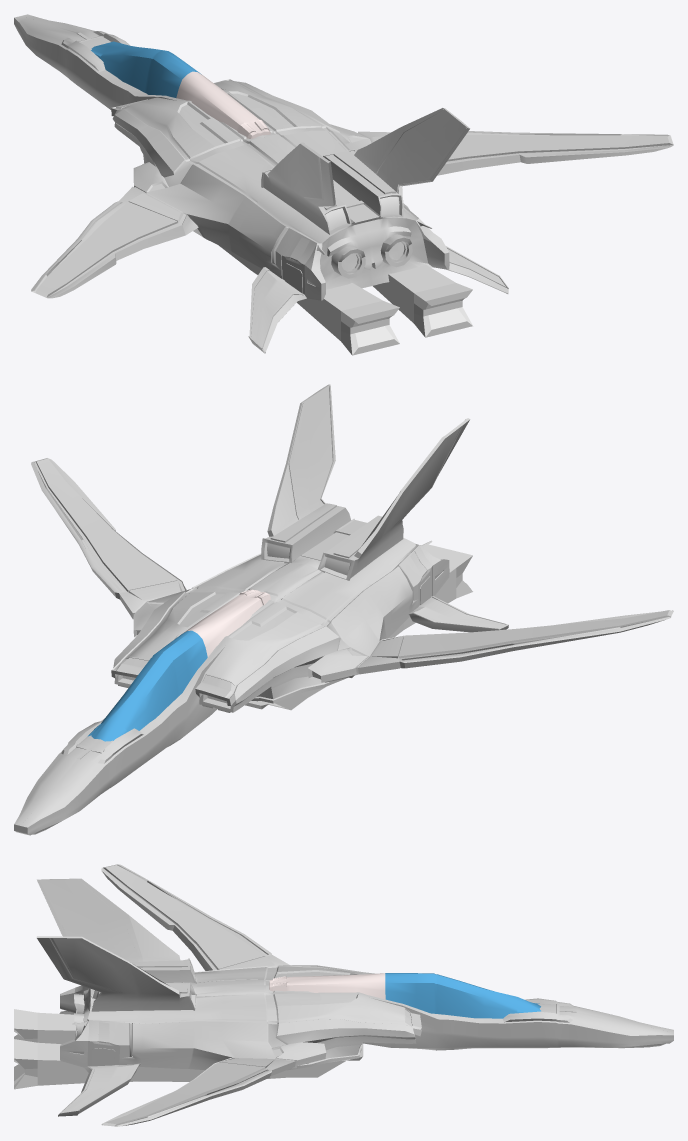
File: AVION MODELO tex.fbx
3 renders of one model, top to bottom at view 1: azimuth 30°, elevation 25°; view 2: azimuth 150°, elevation 25°; view 3: azimuth 270°, elevation 25°, orthographic. The views are drawn at different scales.
Parts seen in each view (by area): view 1: Modelo a, Piernas, Cabina; view 2: Modelo a, Cabina, Piernas; view 3: Modelo a, Cabina, Piernas.
Part boxes in pixels (bbox=[...]): Modelo a: bbox=[14, 14, 673, 353]; Piernas: bbox=[218, 245, 472, 355]; Cabina: bbox=[91, 41, 270, 138]; Modelo a: bbox=[14, 384, 673, 835]; Cabina: bbox=[87, 589, 270, 741]; Piernas: bbox=[245, 544, 472, 710]; Modelo a: bbox=[36, 864, 673, 1126]; Cabina: bbox=[269, 973, 540, 1018]; Piernas: bbox=[14, 1009, 363, 1089].
Size of the model in its own units: 3142 by 886 by 3336.
